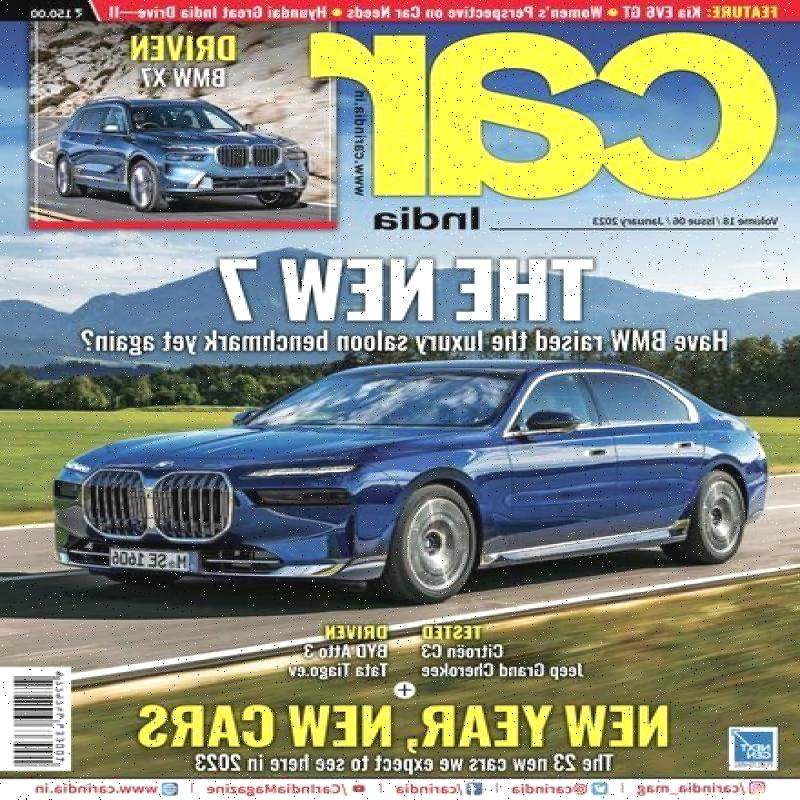car: (49, 341, 800, 593)
